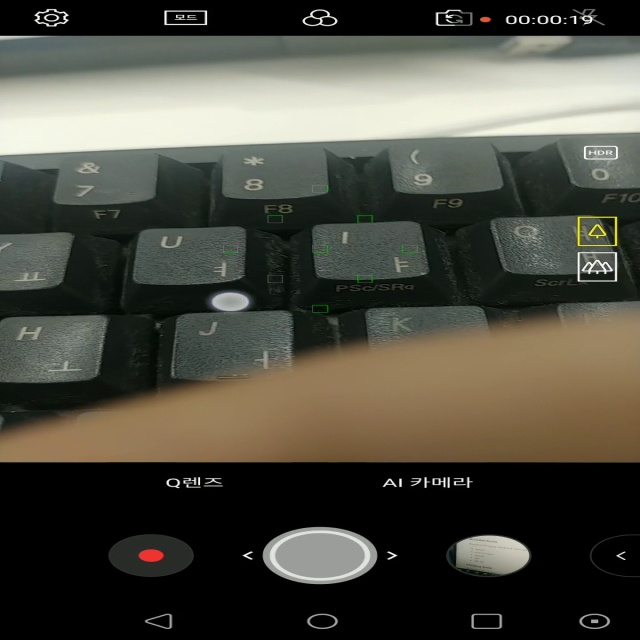Cursor: (208, 291, 253, 313)
